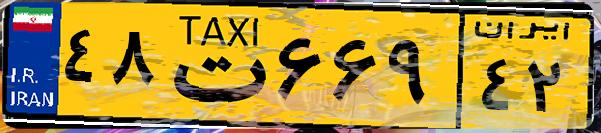2: (525, 38, 570, 115)
4: (57, 26, 110, 100), (475, 38, 525, 113)
6: (270, 28, 330, 110), (330, 28, 385, 110)
8: (110, 28, 158, 98)
9: (385, 28, 445, 110)
ت: (158, 12, 270, 120)
